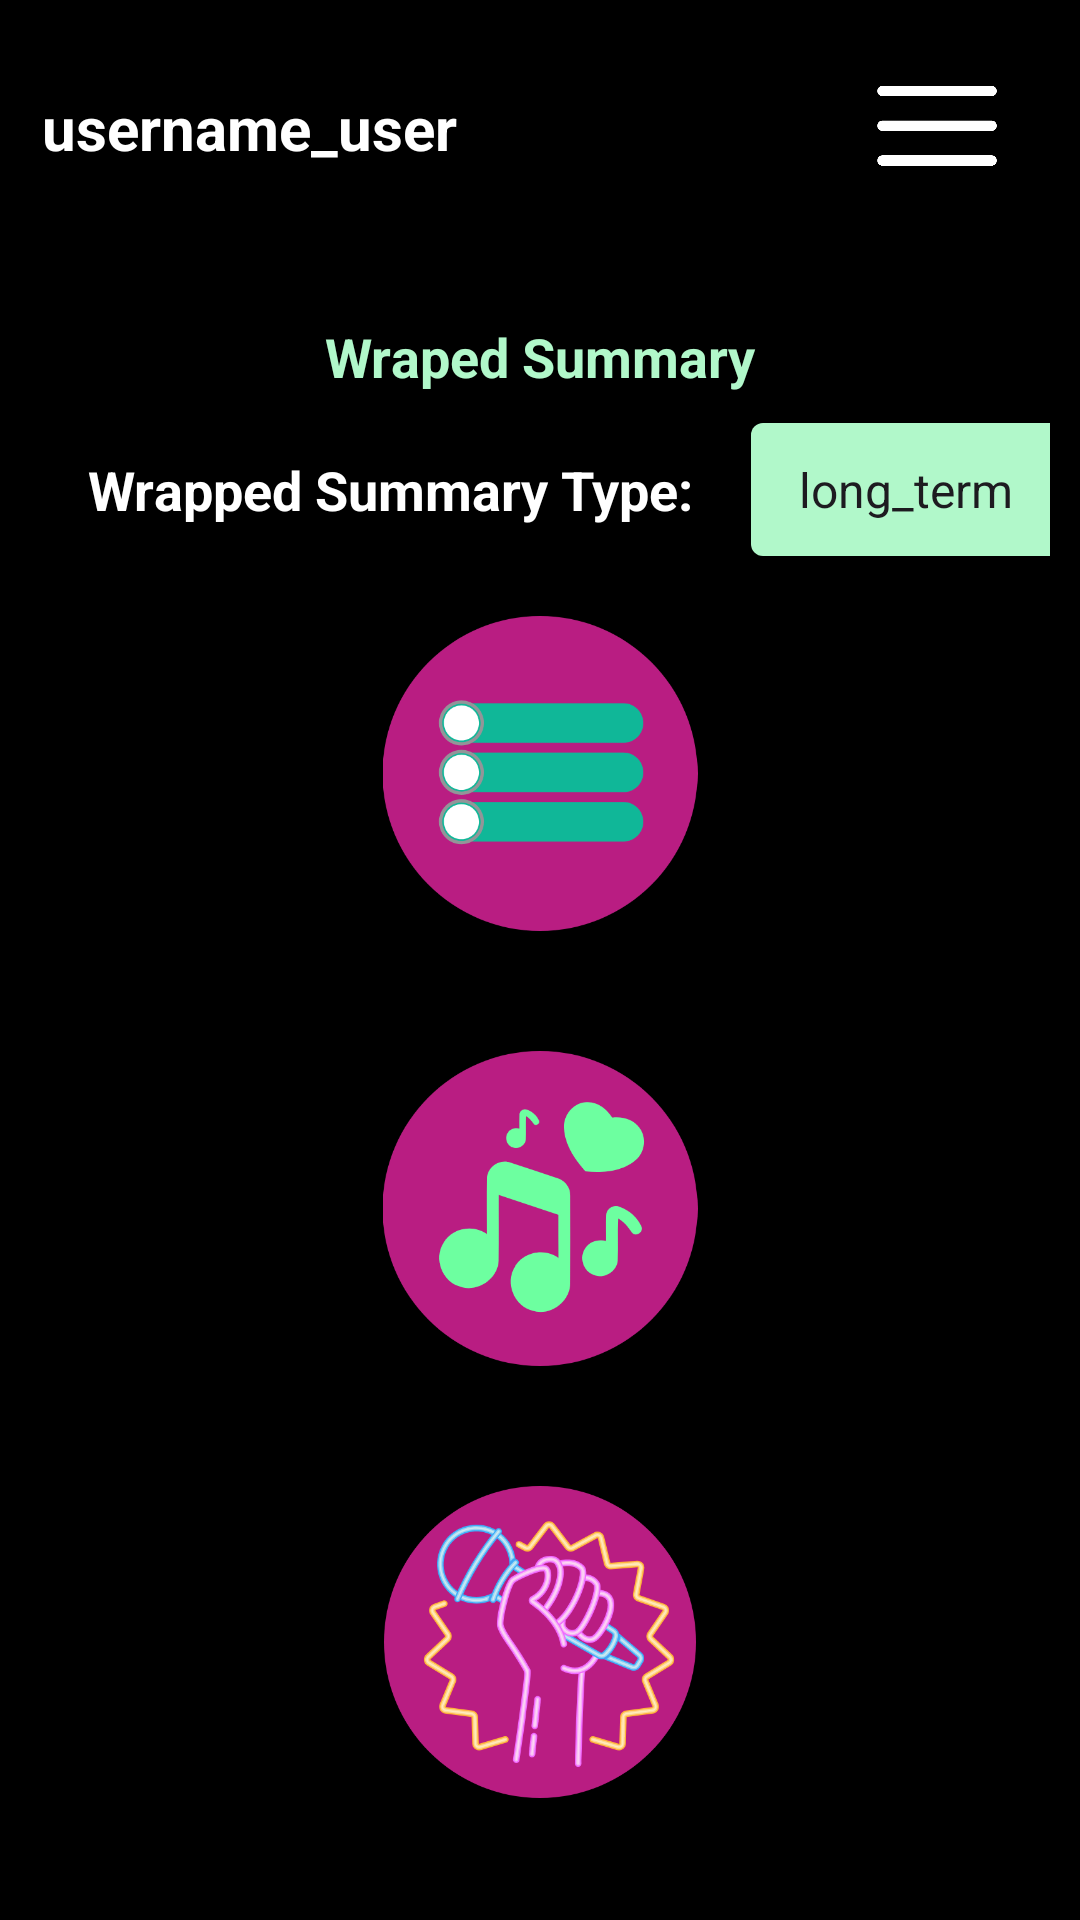

Where to tap for icons on this 1080 x 1920 app screen, as point (x, y):
overvu: point (540, 773)
topartists: point (540, 1642)
topmusic: point (540, 1208)
